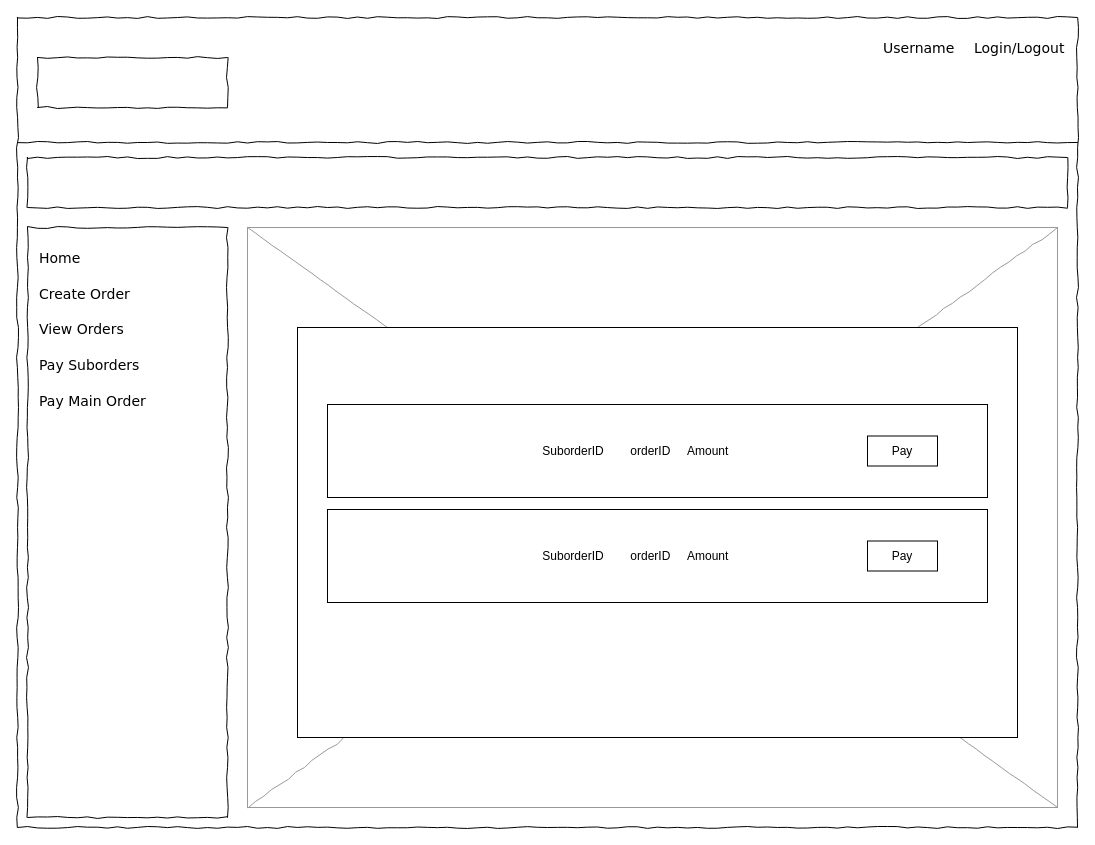
This 1095x845 diagram has some shape labels left out. Here are the shapes that lost their labels. From the top down, the centre of each, then its label:
At point (132, 82): "LOGO".
At point (547, 182): "Pay SubOrder".
